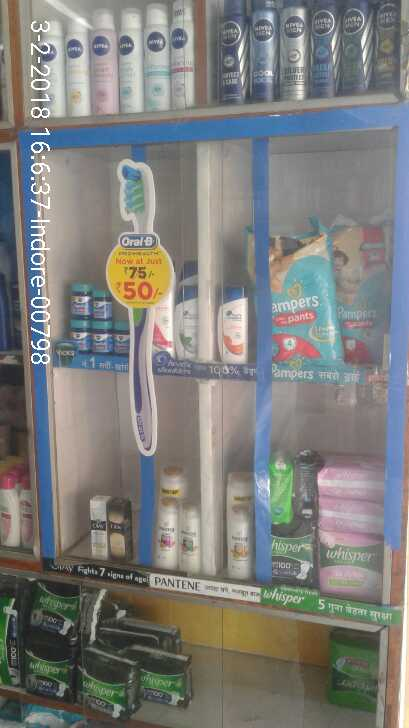beauty: (86, 492, 136, 563), (155, 502, 205, 572), (225, 477, 257, 586), (214, 286, 252, 363)
pharmacy: (274, 223, 339, 371), (332, 217, 393, 366), (316, 527, 386, 595), (74, 646, 140, 716), (29, 581, 79, 645), (64, 317, 134, 355), (274, 536, 321, 590), (71, 282, 116, 323)
